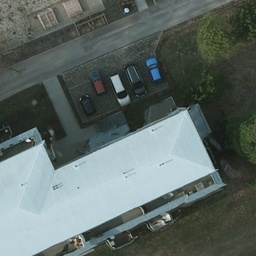car: (125, 63, 147, 100), (109, 73, 130, 107), (145, 59, 163, 84), (78, 93, 96, 117)
